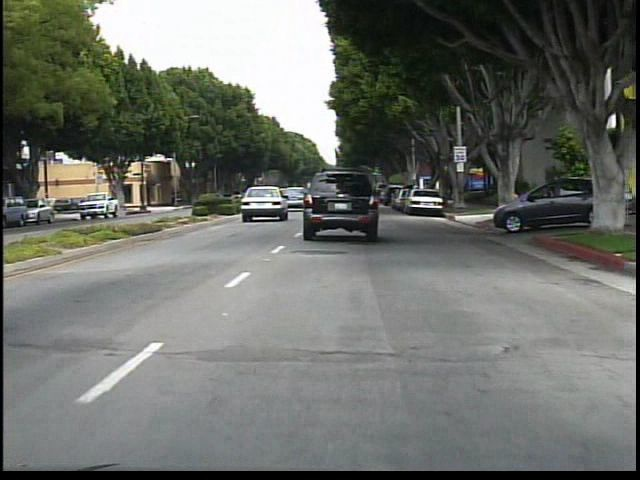person: (498, 169, 518, 212)
